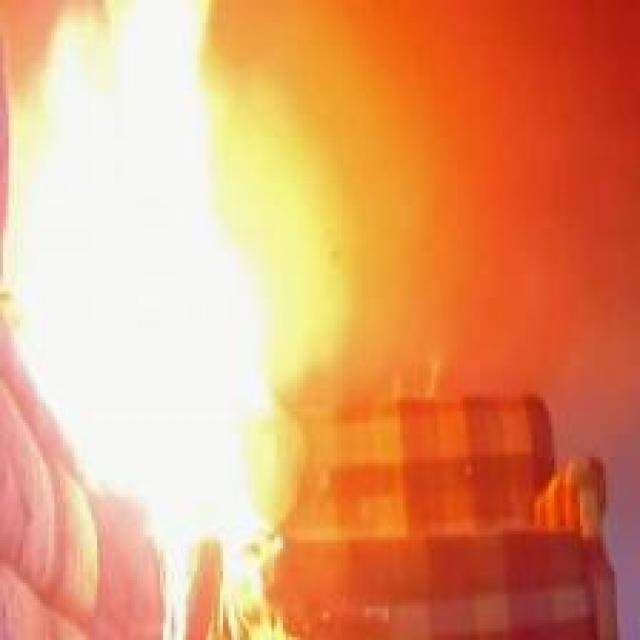Fire: (2, 0, 304, 640)
